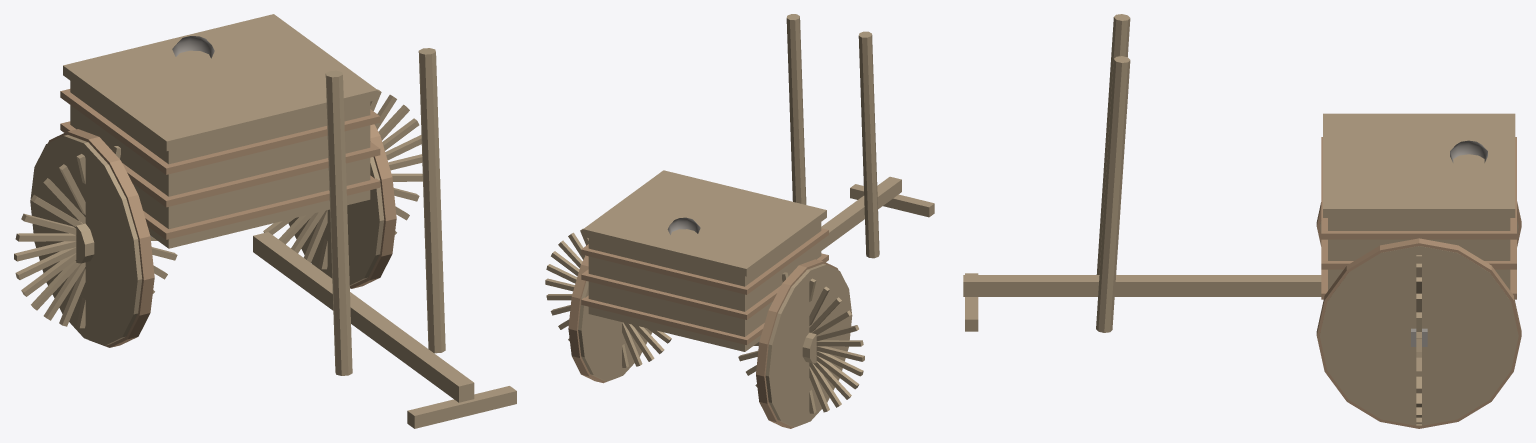
File: trench-line-1917-limber-5f6ec7bf__24128.glb
3 views of the same model, side by side, from view 1: azimuth 30°, elevation 25°; view 2: azimuth 150°, elevation 25°; view 3: azimuth 270°, elevation 25° (orthographic). The views are drawn at different scales.
Parts seen in each view (by area): view 1: limber; view 2: limber; view 3: limber.
Part boxes in pixels (x1,y1,x2,y2): limber: (14, 14, 516, 428); limber: (545, 14, 934, 428); limber: (963, 14, 1521, 428).
Size of the model in its own units: 2.64 by 2.24 by 3.37.
